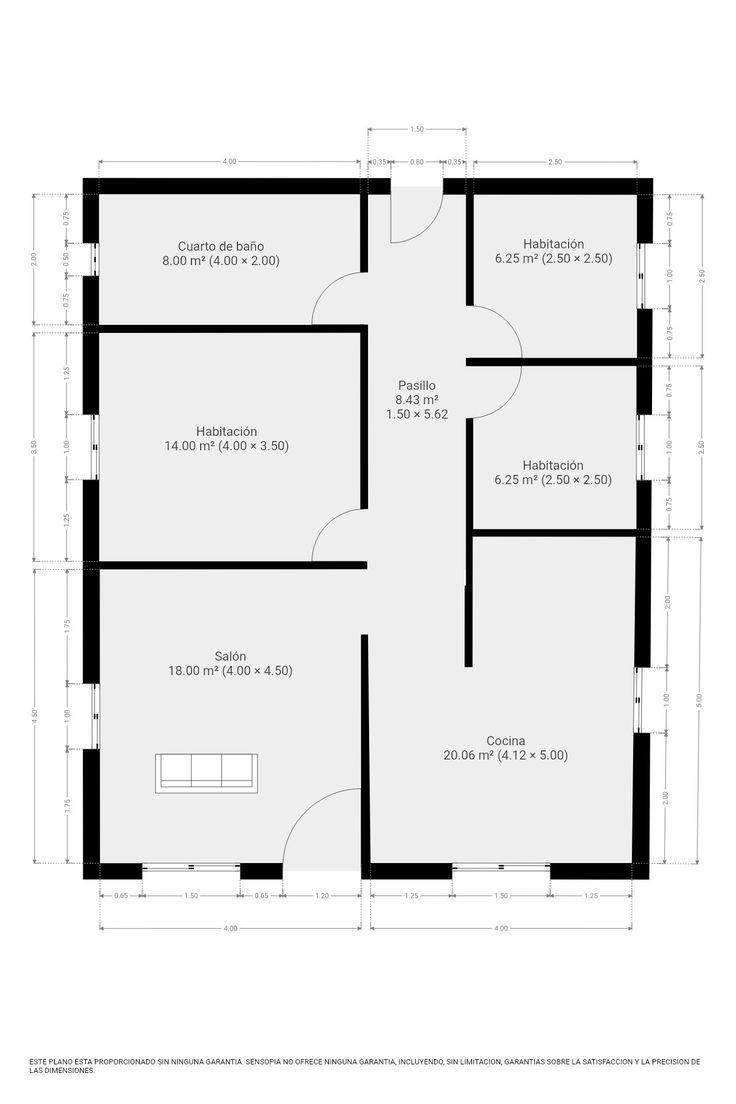wall: (632, 178, 655, 880), (83, 178, 100, 880), (82, 178, 654, 195), (83, 863, 650, 880), (360, 178, 371, 880), (465, 179, 474, 667), (82, 324, 369, 334), (83, 561, 369, 570), (465, 357, 653, 367), (466, 529, 652, 537)
